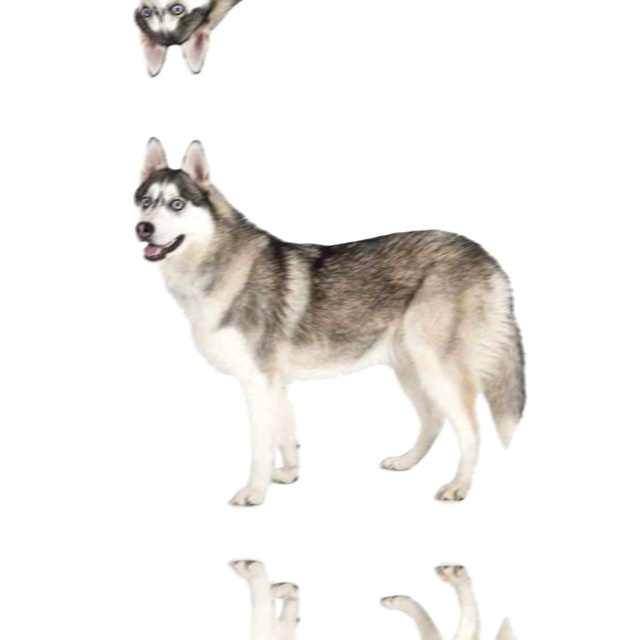dog: (66, 128, 508, 496), (66, 0, 509, 84), (66, 570, 509, 640)
